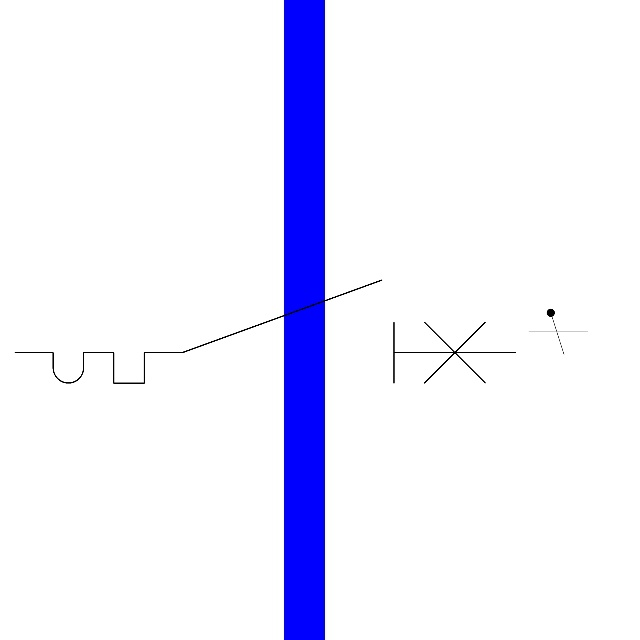interruptor_termomagnetico: (2, 267, 529, 396)
